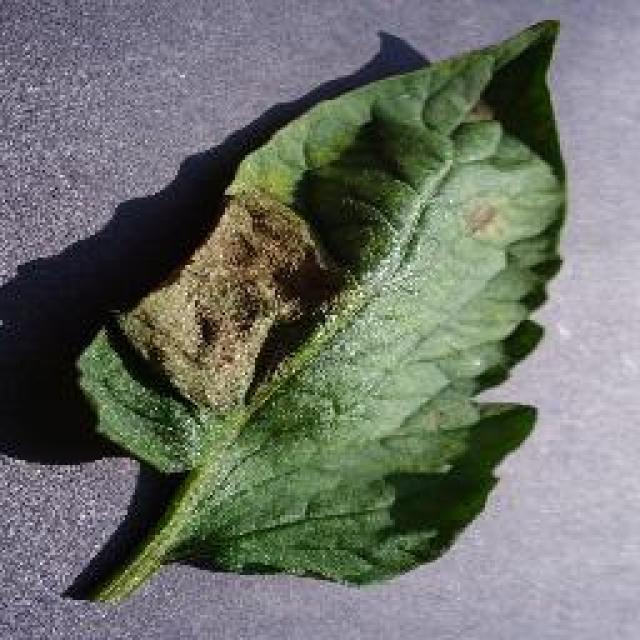Tomato_Late_Blight: (111, 182, 357, 392)
